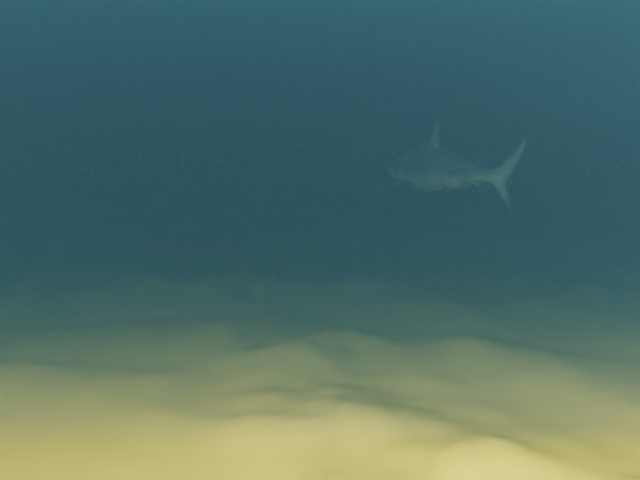Carribean Shark.001: (362, 117, 530, 211)
